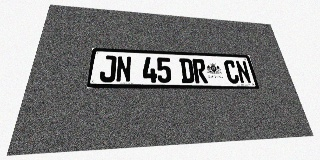4: (143, 57, 157, 83)
5: (157, 57, 172, 83)
C: (223, 60, 240, 84)
D: (179, 58, 195, 83)
J: (99, 55, 117, 82)
N: (115, 56, 131, 82), (235, 60, 252, 84)
R: (192, 59, 208, 83)
